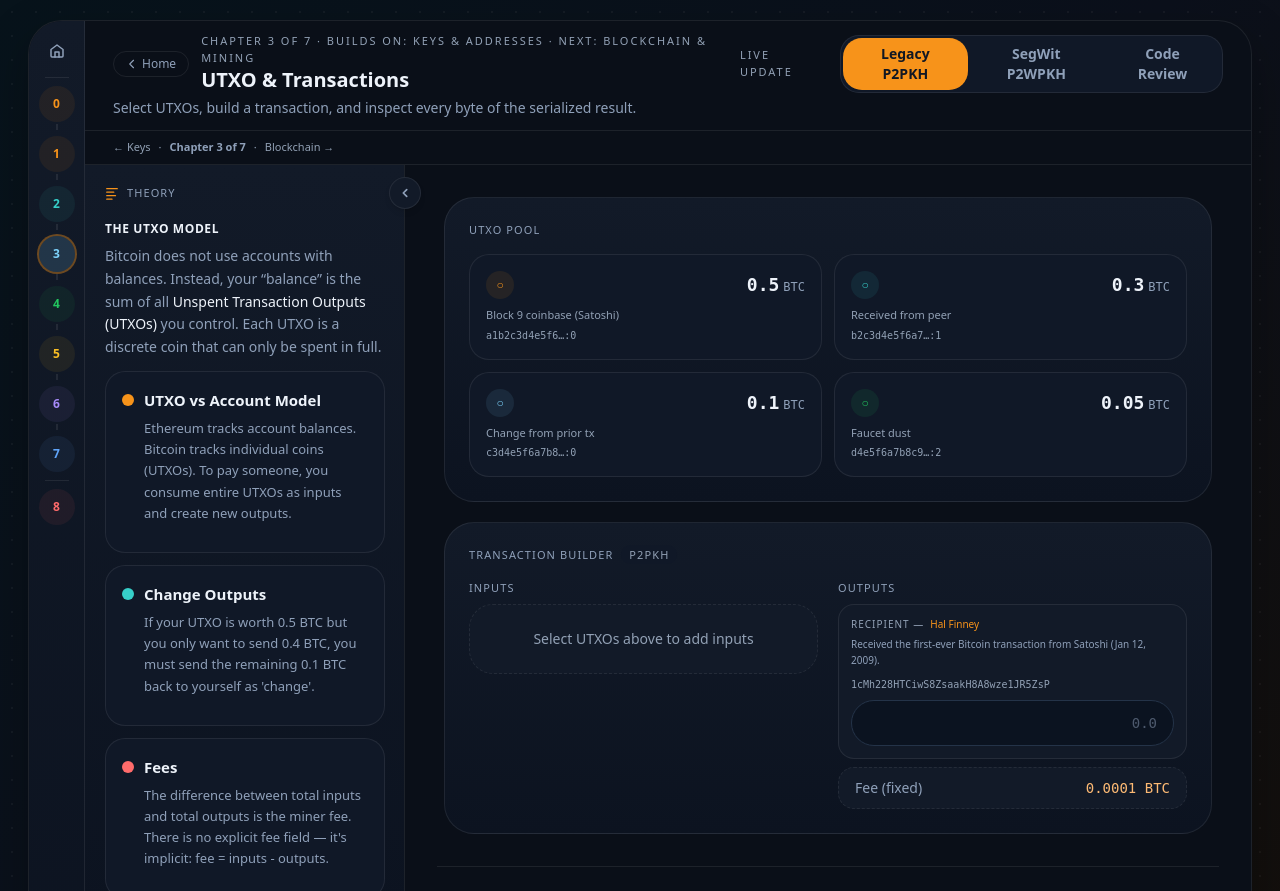
it: UTXOBuilder › AC: hex inspector appears when transaction is valid
expect the text "Raw Transaction Hex" is not shown: met
Note: Select UTXO and enter valid amount
Click the checkbox named "0.5 BTC".
click(763, 284)  # box [469, 254, 822, 360]
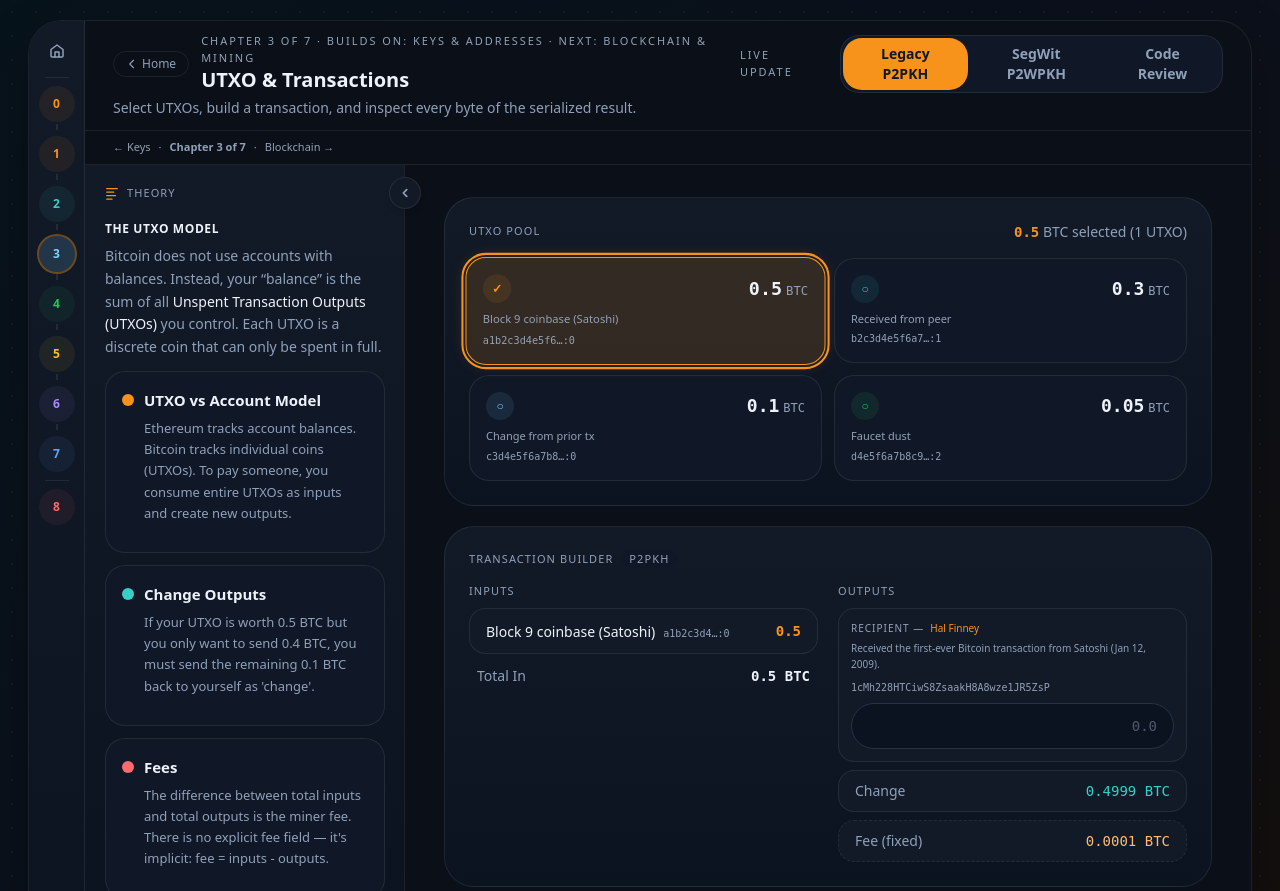
Type "0.3" into the field named "recipient amount".
click(1012, 726); type("0.3")  # box [851, 703, 1174, 749]
(page scrolled)
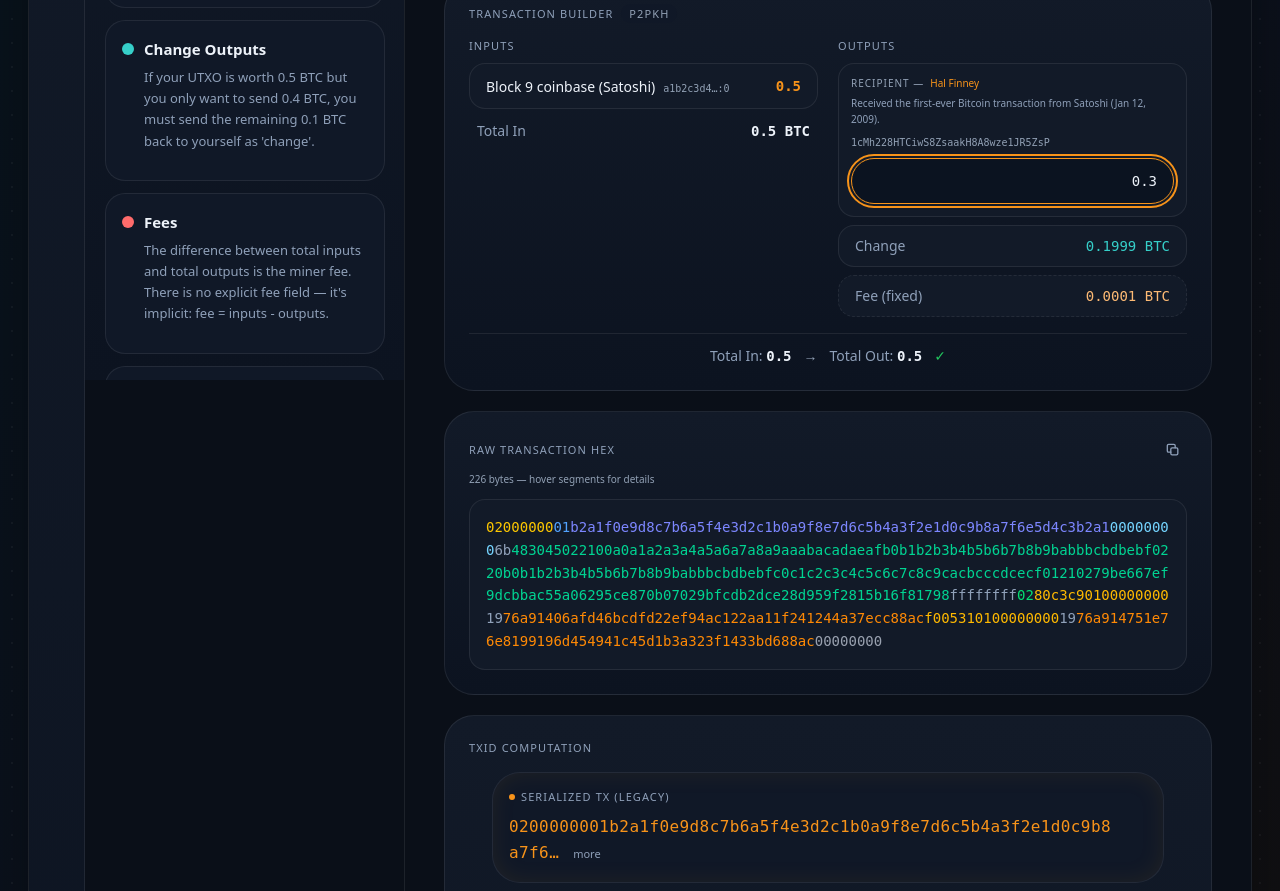
expect the text "Raw Transaction Hex" is shown: met, box [469, 442, 615, 458]
